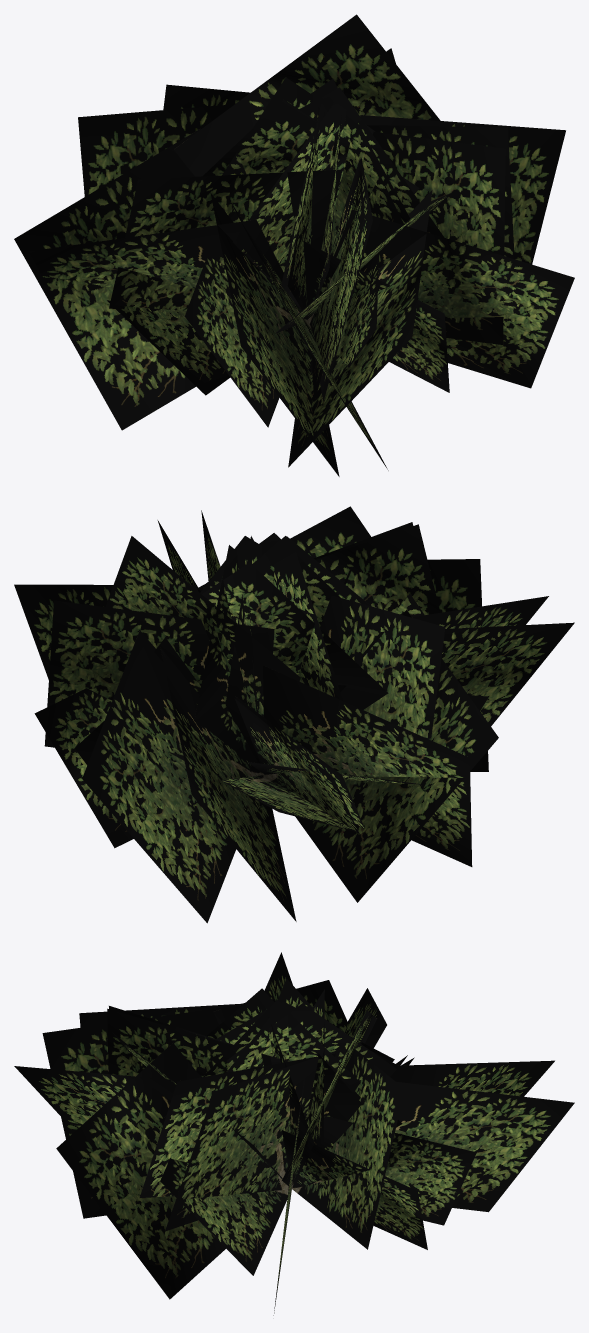
Rendered from bush_01.fbx.
3 views of the same model, one above another, from view 1: azimuth 30°, elevation 25°; view 2: azimuth 150°, elevation 25°; view 3: azimuth 270°, elevation 25° (orthographic). The views are drawn at different scales.
Visible parts, largest first — view 1: bush_01; view 2: bush_01; view 3: bush_01.
Boxes of the visible parts, bbox=[...] form: bush_01: bbox=[14, 14, 574, 476]; bush_01: bbox=[14, 506, 574, 923]; bush_01: bbox=[14, 952, 574, 1315].
Size of the model in its own units: 6.52 by 7.13 by 3.72.
